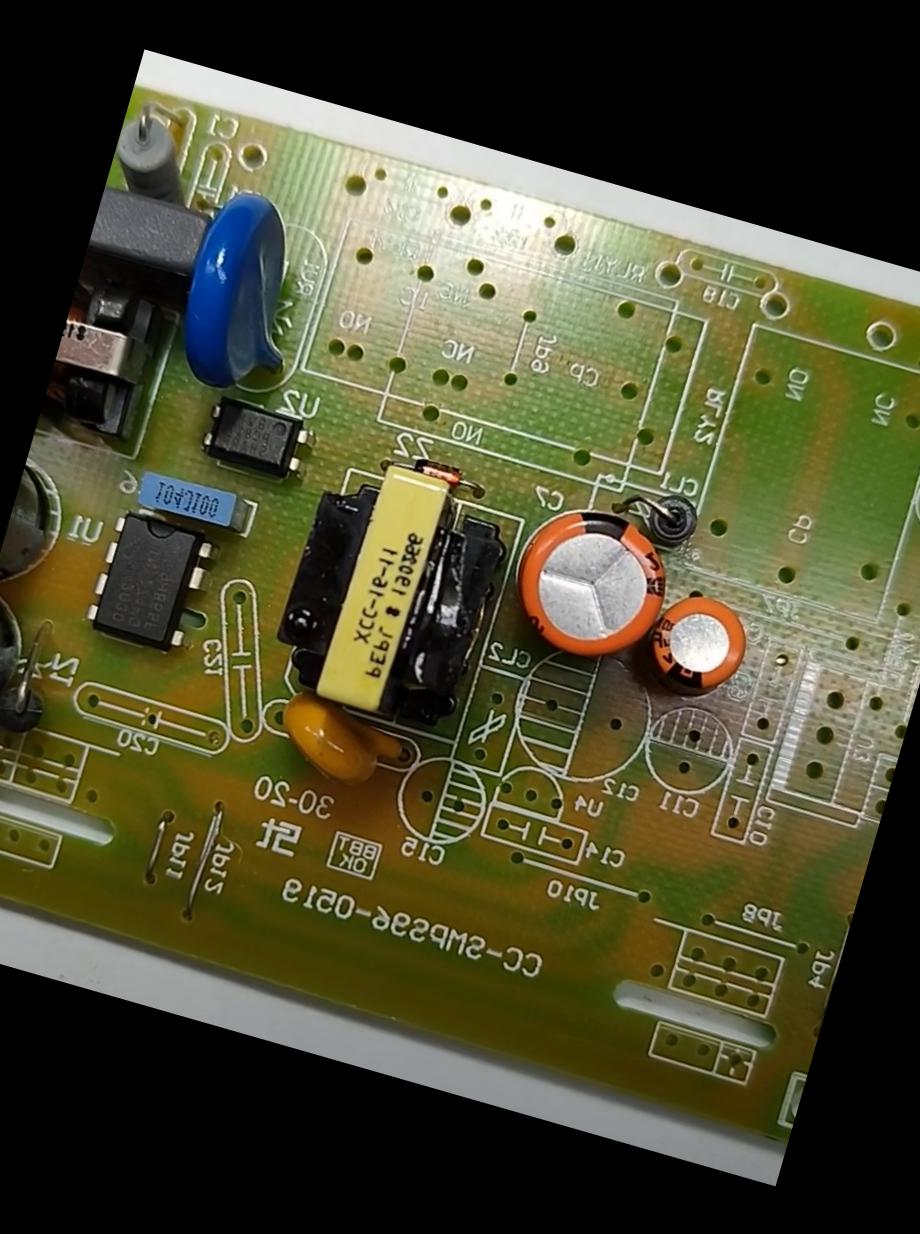Cap1: (503, 499, 684, 679)
Cap2: (644, 585, 760, 701)
Cap3: (0, 433, 79, 596)
Cap4: (0, 587, 47, 763)
MOSFET: (83, 508, 217, 651)
Mov: (160, 178, 314, 398)
Resistor: (106, 94, 210, 207)
Transformer: (264, 448, 508, 732), (42, 271, 153, 427)
